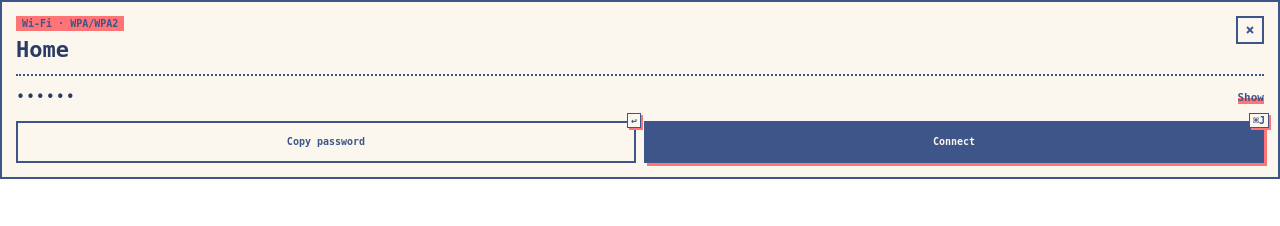
Test: (c) a failed copy shows its reason before the actions and says Copied nowhere, (d) a later copy clears it
Click the button "Copy password" at (326, 142), box [16,121,636,163]
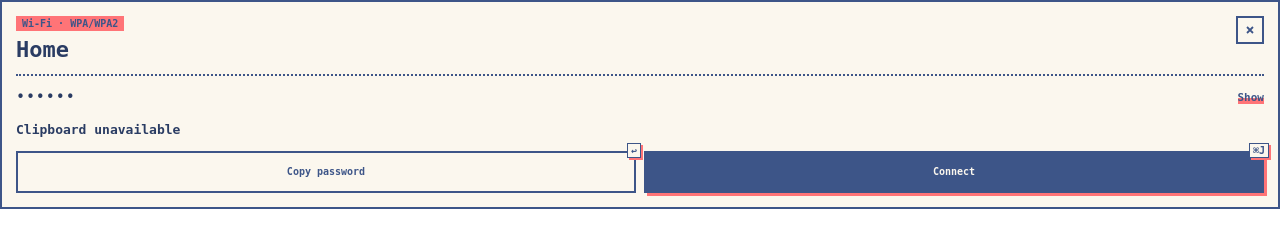
expect the element with class "actions" is shown: met, box [16,151,1264,193]
expect the number of elements with class "failure" is 1: met, box [16,122,180,137]
expect the text with class "failure" reads "Clipboard unavailable": met, box [16,122,180,137]
Click the button "Copy password" at (326, 172), box [16,151,636,193]
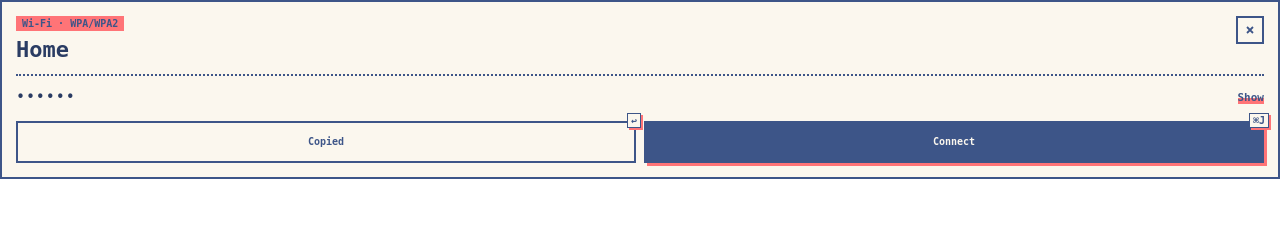
expect the text with class "failure" is gone: met
expect the button "Copied" is shown: met, box [16,121,636,163]
